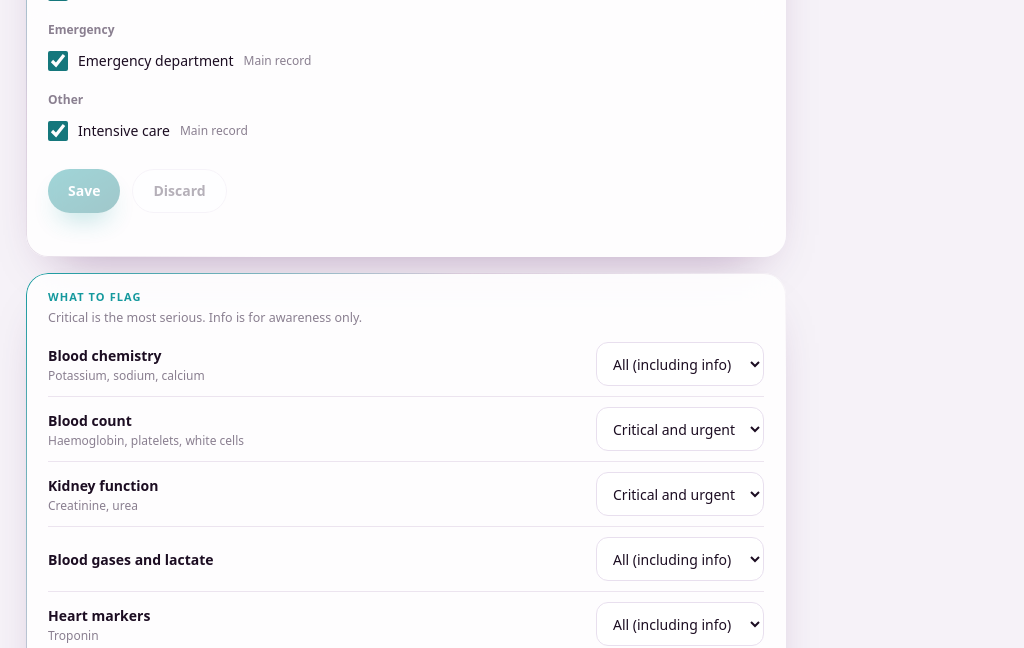
AlertSettingsView › saves a lower level without asking
The image size is (1024, 648).
(page scrolled)
Select "Critical only" in the dropdown labelled "Blood chemistry". click: (680, 364)
box: [596,342,764,386]
(page scrolled)
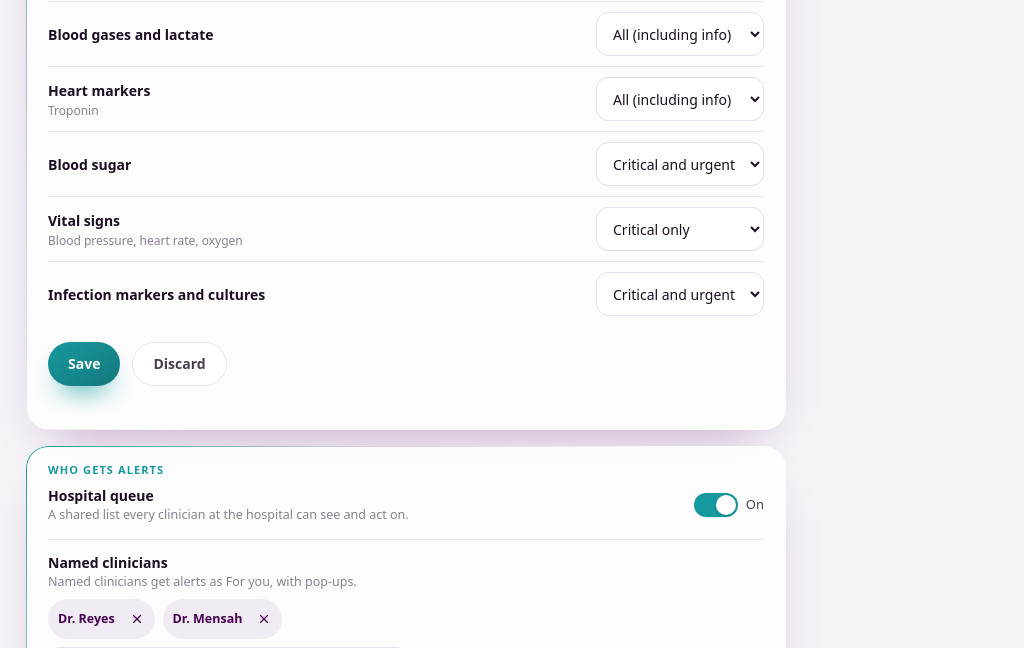
Click the button "Save" below "Infection markers and cultures". click: (84, 364)
box: [48,342,120,386]
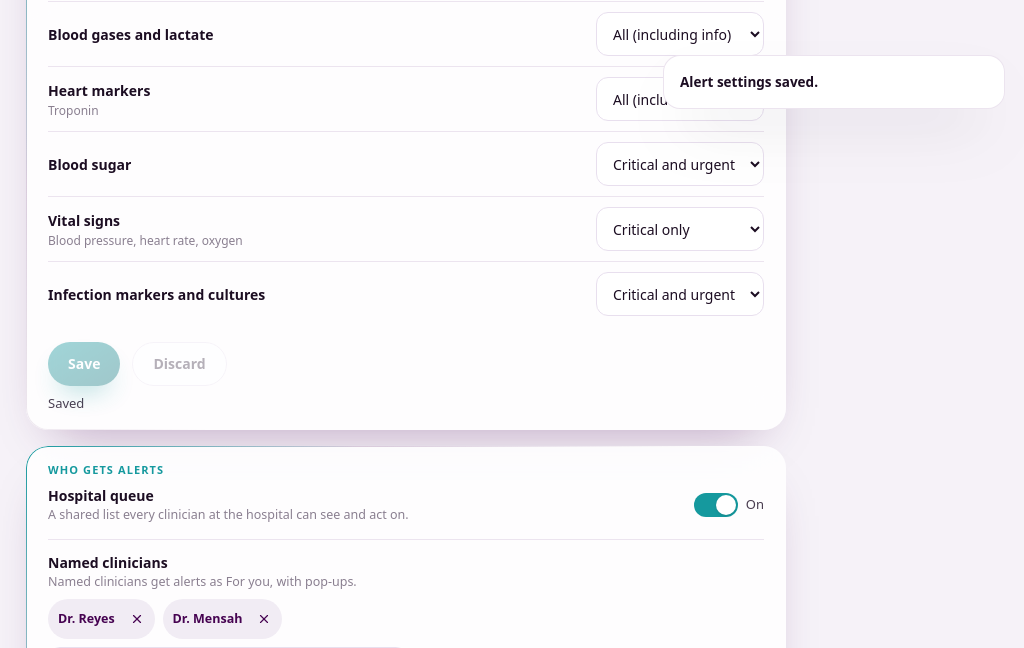
Expected: the text "Alert settings saved." is shown, [680,73,818,91]
